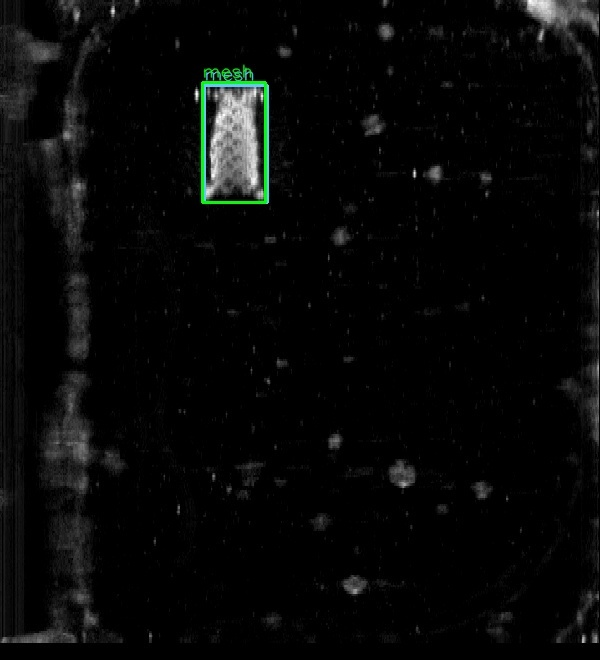mesh: (204, 85, 267, 202)
